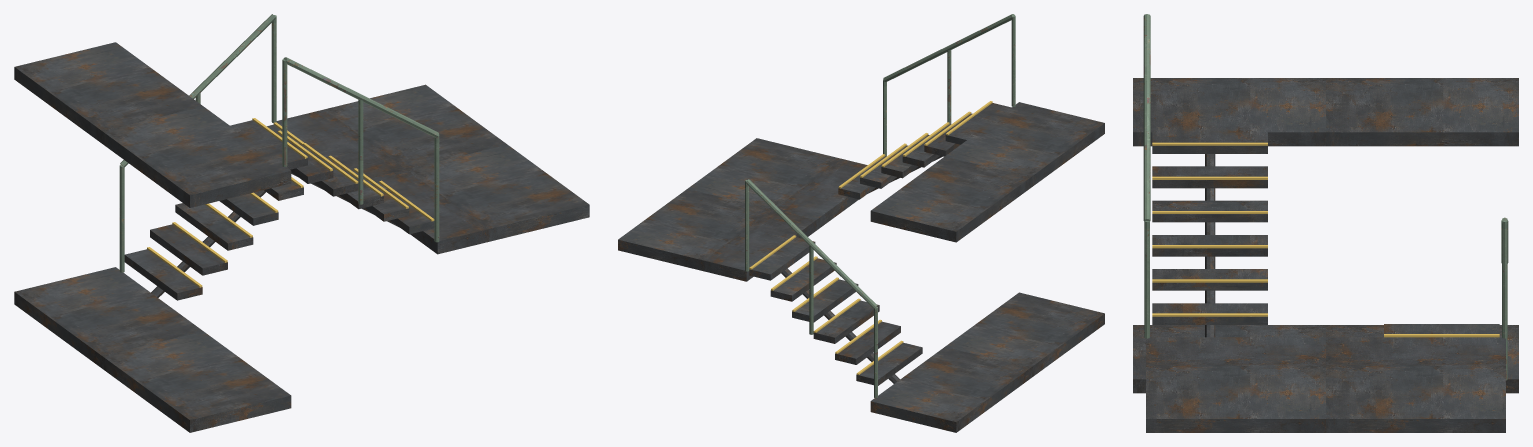
File: silo-switchback.gltf
3 renders of one model, left to right at view 1: azimuth 30°, elevation 25°; view 2: azimuth 150°, elevation 25°; view 3: azimuth 270°, elevation 25°, orthographic. The views are drawn at different scales.
Parts seen in each view (by area): view 1: component-stair-22-steel-0, component-floor-22-steel-3, component-floor-23-steel-4, component-stair-22-seafoam-2, component-stair-22-yellow-1; view 2: component-stair-22-steel-0, component-floor-22-steel-3, component-floor-23-steel-4, component-stair-22-seafoam-2, component-stair-22-yellow-1; view 3: component-stair-22-steel-0, component-floor-23-steel-4, component-floor-22-steel-3, component-stair-22-seafoam-2, component-stair-22-yellow-1.
Part boxes in pixels (x1=…): component-stair-22-steel-0: x1=124, y1=84, x2=589, y2=300; component-floor-22-steel-3: x1=14, y1=267, x2=291, y2=432; component-floor-23-steel-4: x1=14, y1=42, x2=291, y2=207; component-stair-22-seafoam-2: x1=119, y1=14, x2=439, y2=272; component-stair-22-yellow-1: x1=147, y1=118, x2=434, y2=287; component-stair-22-steel-0: x1=618, y1=103, x2=1011, y2=385; component-floor-22-steel-3: x1=870, y1=292, x2=1104, y2=432; component-floor-23-steel-4: x1=870, y1=102, x2=1104, y2=242; component-stair-22-seafoam-2: x1=745, y1=14, x2=1015, y2=397; component-stair-22-yellow-1: x1=749, y1=101, x2=992, y2=375; component-stair-22-steel-0: x1=1146, y1=132, x2=1505, y2=432; component-floor-23-steel-4: x1=1133, y1=78, x2=1518, y2=146; component-floor-22-steel-3: x1=1133, y1=325, x2=1518, y2=393; component-stair-22-seafoam-2: x1=1143, y1=14, x2=1508, y2=380; component-stair-22-yellow-1: x1=1152, y1=142, x2=1499, y2=337.
Bounding box in the file's own units: 4 × 3.26 × 3.
Materials: 3 (2 with a texture image).
